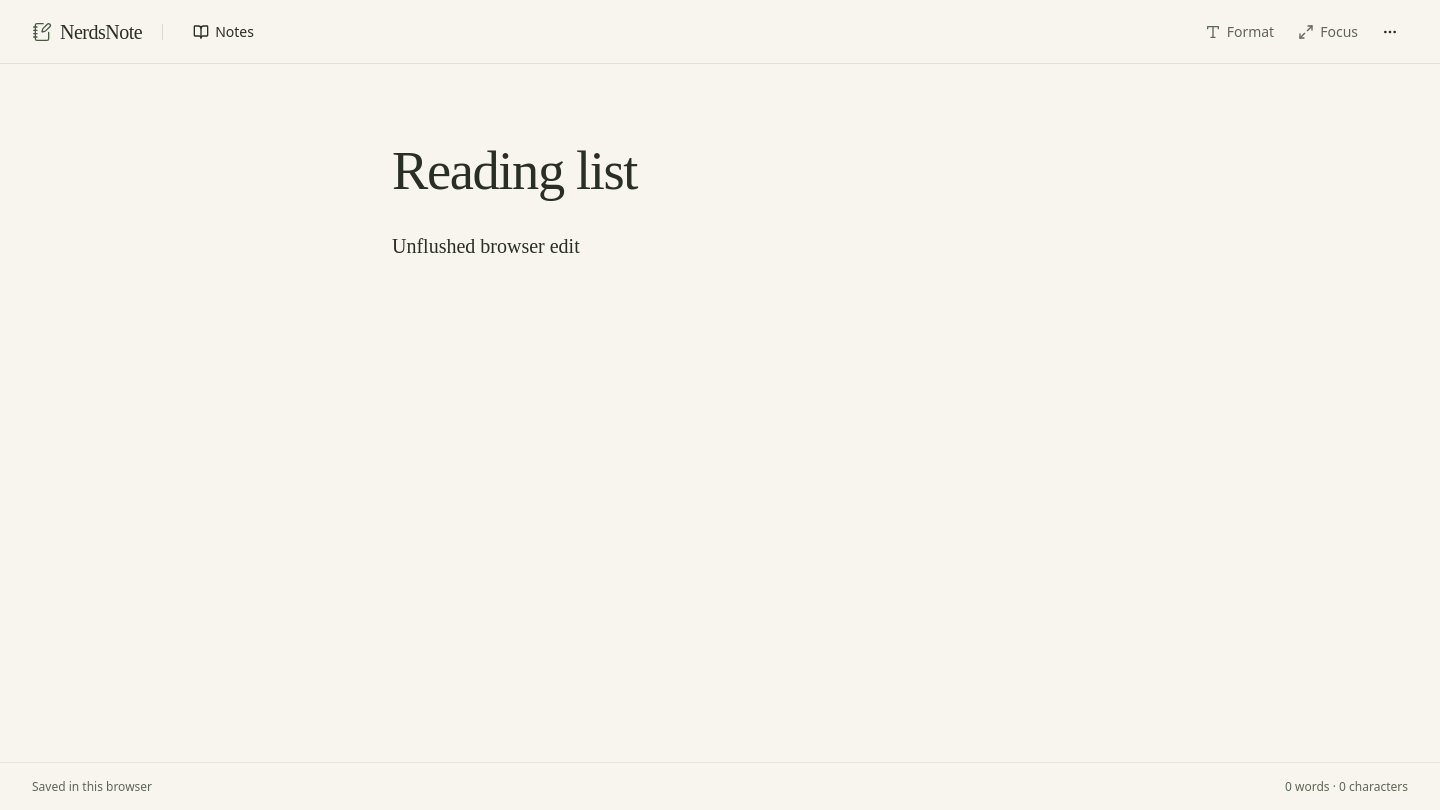
Scenario: notebook persistence › preserves a previous version's connected folder and browser-only notes on first open
Check: the field named "Note title" is shown, box 392,137 -> 1048,205
Click the button "Notes" at (224, 32), box 183,16 -> 264,48
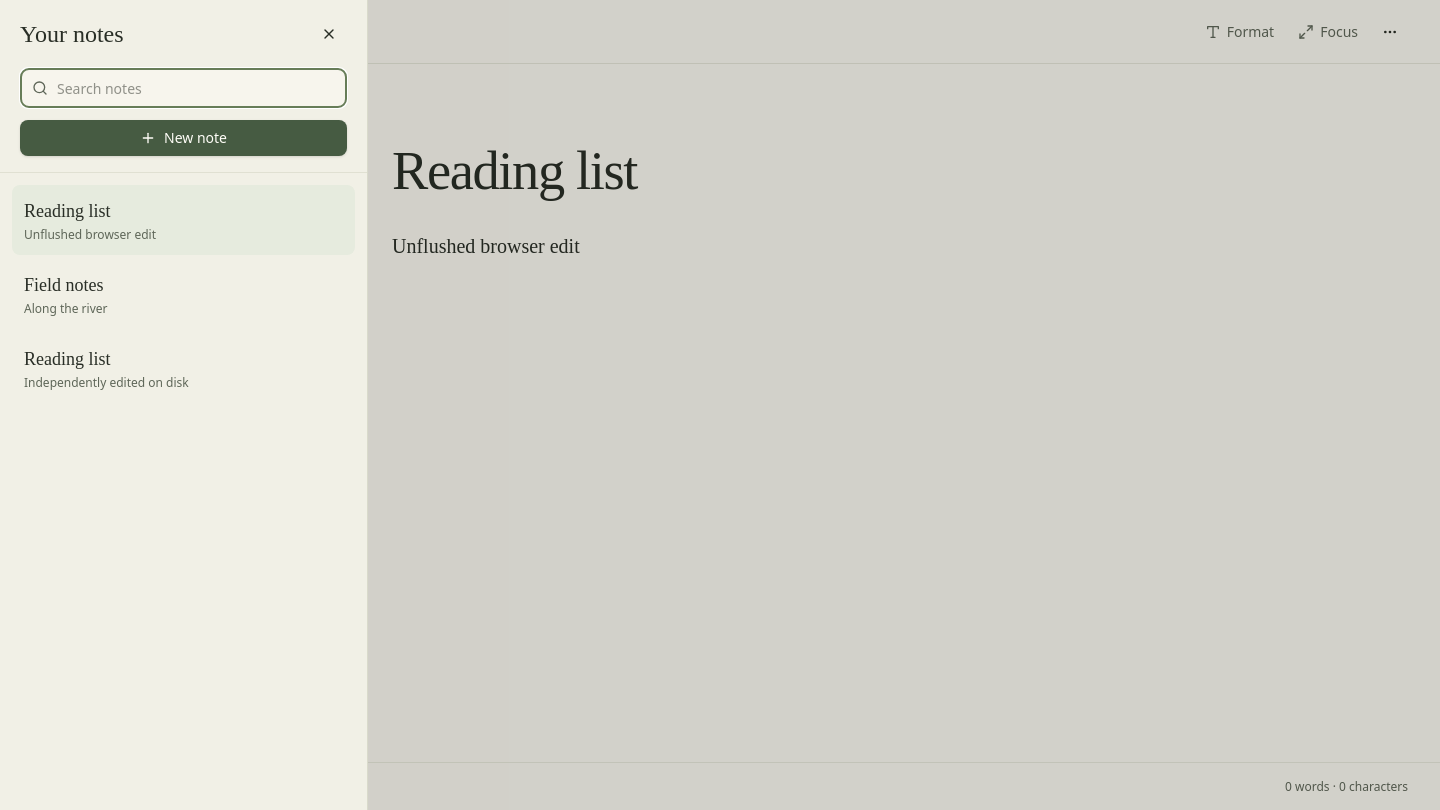
Check: the text "Unflushed browser edit" is shown, box 24,226 -> 156,243
Check: the text "Independently edited on disk" is shown, box 24,374 -> 189,391
Check: the text "Along the river" is shown, box 24,300 -> 108,317
